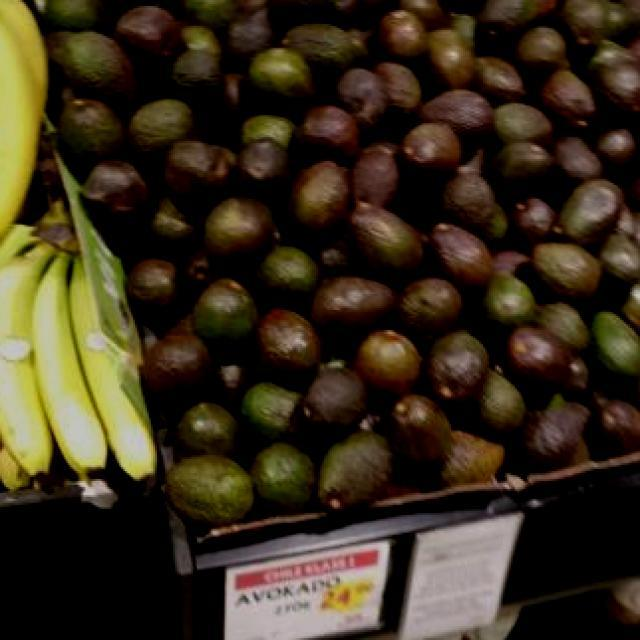Avocado: (66, 24, 152, 116), (306, 272, 404, 348), (342, 194, 425, 274), (318, 431, 396, 515), (161, 453, 252, 525), (426, 216, 498, 302), (500, 316, 570, 402), (234, 48, 318, 116), (284, 153, 350, 239), (386, 394, 452, 479), (429, 320, 491, 410), (534, 59, 604, 138), (437, 172, 515, 242), (262, 298, 326, 382), (284, 101, 360, 171), (248, 439, 316, 517), (202, 201, 282, 266), (143, 342, 214, 415), (188, 276, 256, 352), (167, 133, 240, 201), (412, 84, 494, 142), (358, 330, 423, 403), (280, 19, 360, 78), (111, 12, 187, 74), (300, 366, 372, 430), (394, 115, 467, 177), (516, 399, 576, 472), (582, 388, 640, 463), (588, 42, 640, 120), (486, 135, 558, 191), (588, 306, 640, 382), (534, 240, 600, 298), (550, 191, 618, 246), (334, 68, 389, 136), (368, 2, 430, 62), (430, 29, 474, 92), (480, 0, 542, 44)
